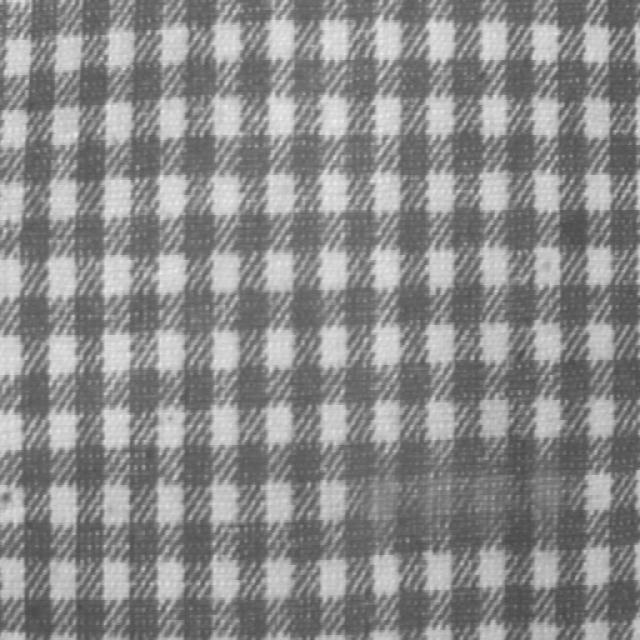Stain-Defect: (368, 475, 519, 516), (526, 478, 571, 510)
